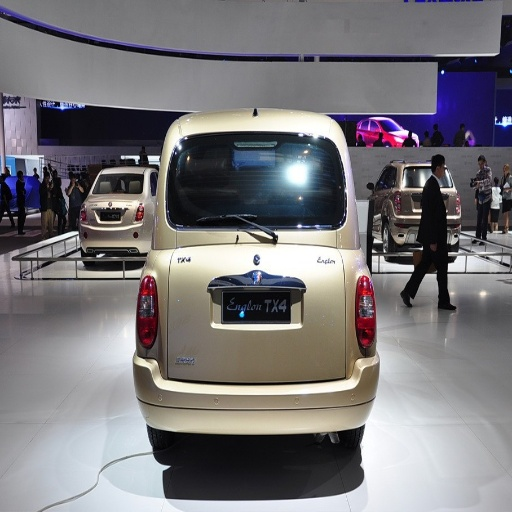back_bumper: (133, 341, 378, 436)
